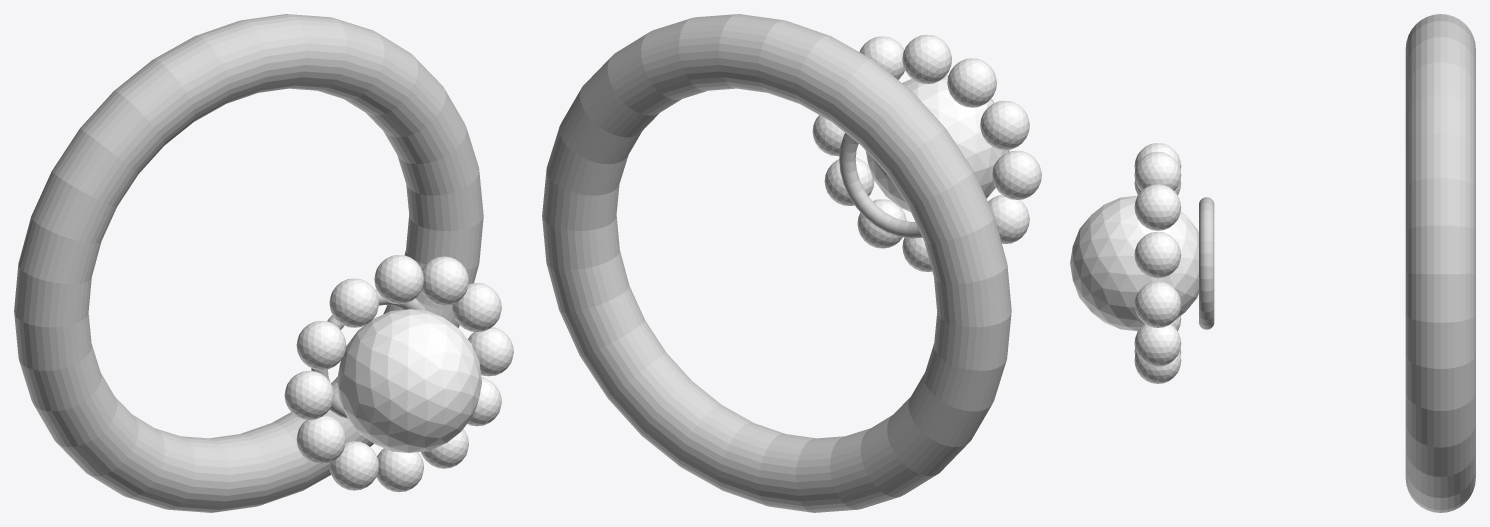
File: ring_cluster_halo.glb
3 views of the same model, side by side, from view 1: azimuth 30°, elevation 25°; view 2: azimuth 150°, elevation 25°; view 3: azimuth 270°, elevation 25° (orthographic). The views are drawn at different scales.
Parts seen in each view (by area): view 1: world; view 2: world; view 3: world.
Part boxes in pixels (box(x1,y1,x2,y2)): world: box(14, 14, 513, 512); world: box(542, 14, 1041, 512); world: box(1070, 14, 1475, 512).
Bounding box in the file's own units: 0.0256 × 0.0256 × 0.0208.
Materials: 1 (1 with a texture image).
